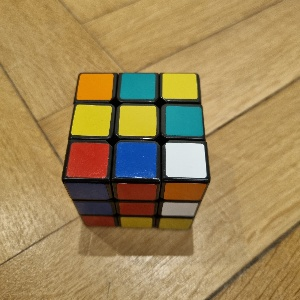cube: (61, 72, 212, 231)
